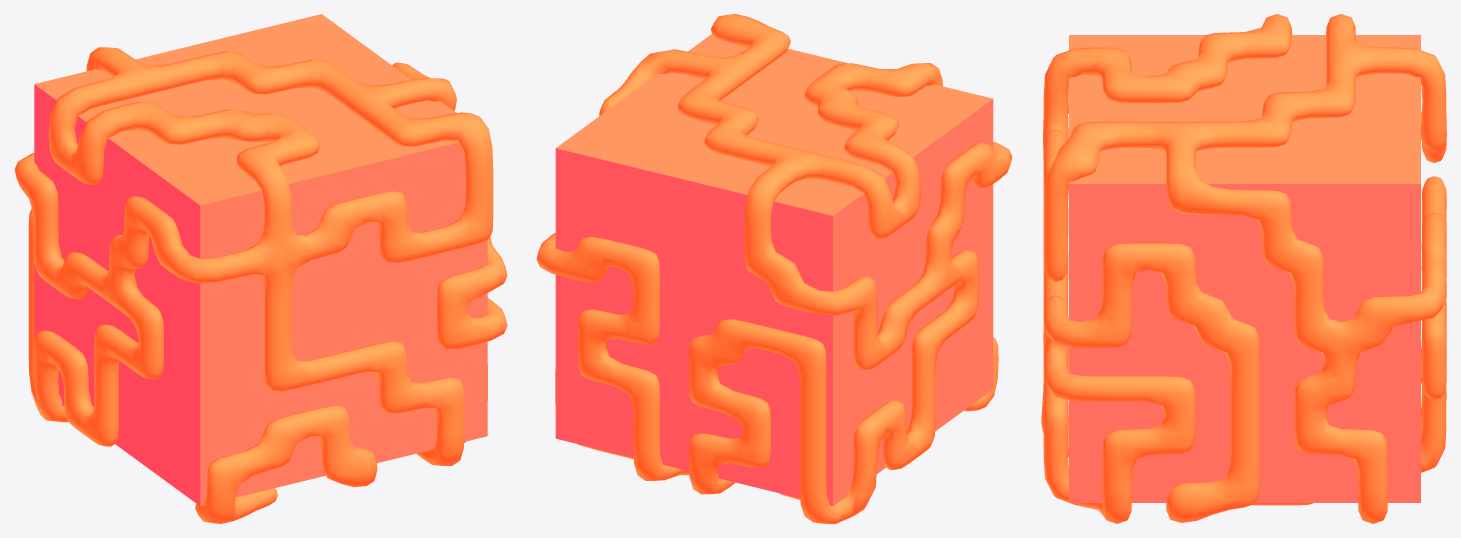
The model's file is Küp.fbx.
The picture shows the model from 3 angles, left to right: view 1: azimuth 30°, elevation 25°; view 2: azimuth 150°, elevation 25°; view 3: azimuth 270°, elevation 25°; orthographic projection. The views are drawn at different scales.
Parts seen in each view (by area): view 1: Sarmaşık, Küp; view 2: Sarmaşık, Küp; view 3: Sarmaşık, Küp.
Part boxes in pixels (x1,y1,x2,y2): Sarmaşık: [34, 14, 487, 506]; Küp: [14, 47, 507, 523]; Sarmaşık: [555, 34, 993, 506]; Küp: [536, 14, 1012, 523]; Sarmaşık: [1069, 35, 1420, 502]; Küp: [1041, 14, 1446, 523].
Size of the model in its own units: 230 by 232 by 230.
